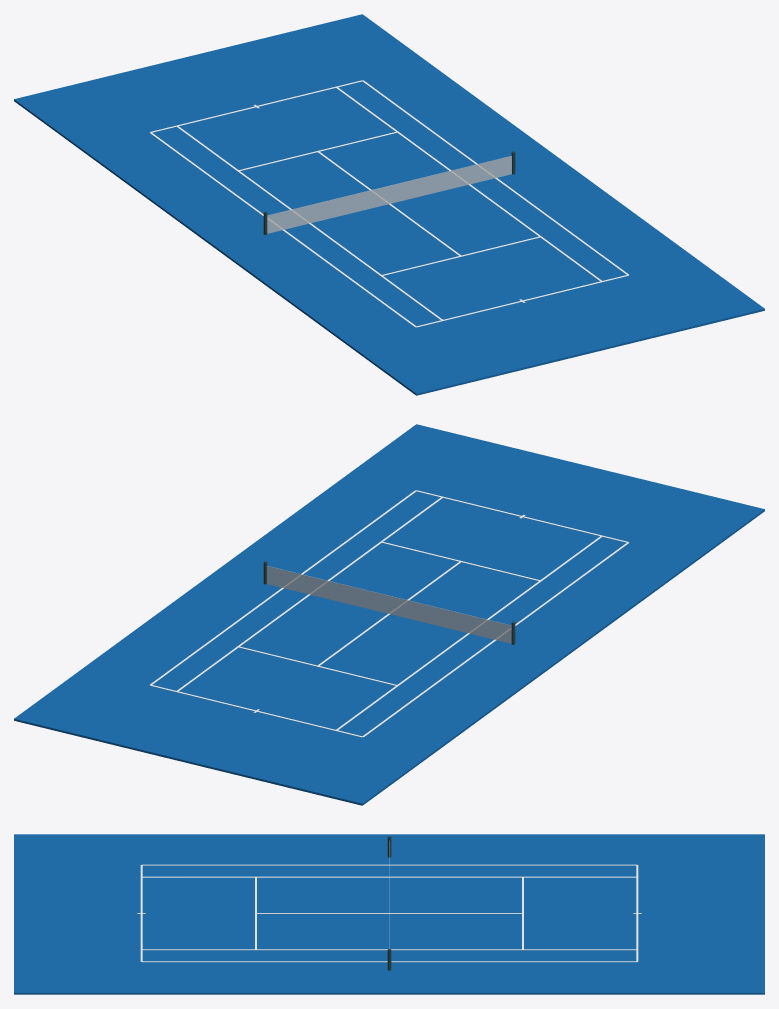
The model's file is quadra_tenis_rapida.glb.
3 views of the same model, one above another, from view 1: azimuth 30°, elevation 25°; view 2: azimuth 150°, elevation 25°; view 3: azimuth 270°, elevation 25° (orthographic). The views are drawn at different scales.
Size of the model in its own units: 18 by 1.17 by 36.
